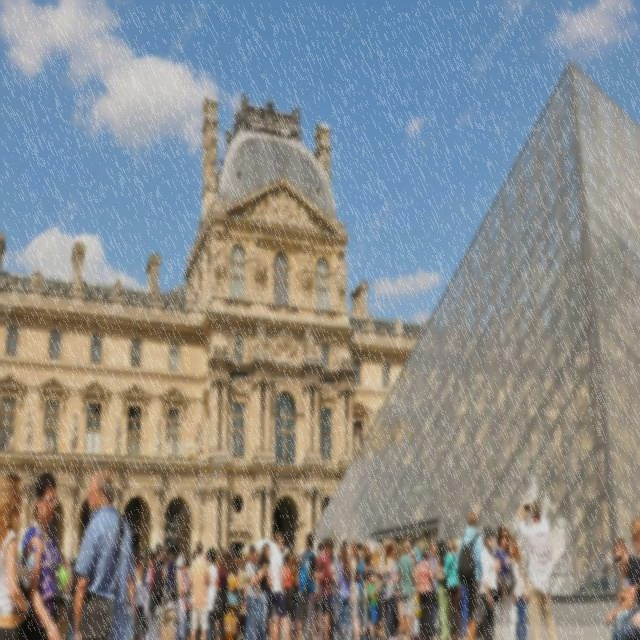pessoa: (74, 468, 132, 639), (18, 471, 72, 639), (516, 497, 561, 639), (0, 472, 31, 639), (604, 535, 640, 639), (456, 511, 484, 639), (252, 178, 314, 230), (478, 523, 504, 639), (494, 524, 520, 639), (266, 531, 291, 639), (506, 533, 529, 639), (188, 539, 212, 639), (622, 515, 640, 639), (443, 535, 463, 639), (299, 531, 318, 639), (396, 539, 416, 639), (415, 546, 435, 639), (316, 536, 334, 639), (146, 542, 164, 639), (211, 546, 229, 639), (244, 543, 260, 639), (50, 551, 67, 639), (383, 542, 398, 639), (436, 537, 450, 639), (369, 545, 384, 637), (257, 541, 271, 639), (248, 232, 268, 300), (326, 537, 339, 639), (62, 554, 78, 636), (348, 540, 361, 639), (336, 544, 349, 639), (358, 540, 370, 639), (427, 541, 439, 639), (132, 555, 146, 639), (296, 240, 314, 305), (409, 550, 422, 639), (206, 548, 218, 640), (227, 556, 240, 639), (176, 551, 188, 639), (212, 228, 228, 292), (356, 541, 366, 639), (388, 542, 398, 639), (289, 552, 300, 639), (334, 248, 350, 307), (252, 316, 273, 360), (142, 550, 152, 639), (367, 569, 379, 638), (206, 546, 218, 614), (358, 579, 371, 639), (68, 410, 83, 456), (282, 554, 294, 610), (24, 408, 36, 458), (112, 414, 124, 460), (275, 323, 293, 353), (124, 595, 136, 639), (319, 541, 332, 581), (302, 325, 314, 363), (193, 418, 204, 459), (153, 418, 164, 458), (164, 551, 178, 580), (352, 426, 362, 461), (394, 314, 404, 348), (366, 312, 376, 344), (620, 568, 630, 594), (73, 272, 83, 296), (32, 267, 42, 291), (152, 282, 162, 306), (183, 556, 190, 588), (114, 276, 122, 300), (162, 550, 168, 579), (132, 552, 138, 574), (226, 548, 238, 558), (286, 548, 294, 562), (254, 548, 260, 566), (240, 552, 247, 566), (238, 560, 246, 572), (192, 550, 196, 560)
